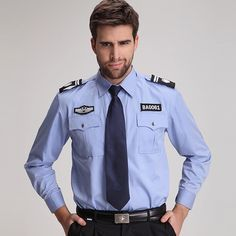uniform: (52, 62, 201, 236)
